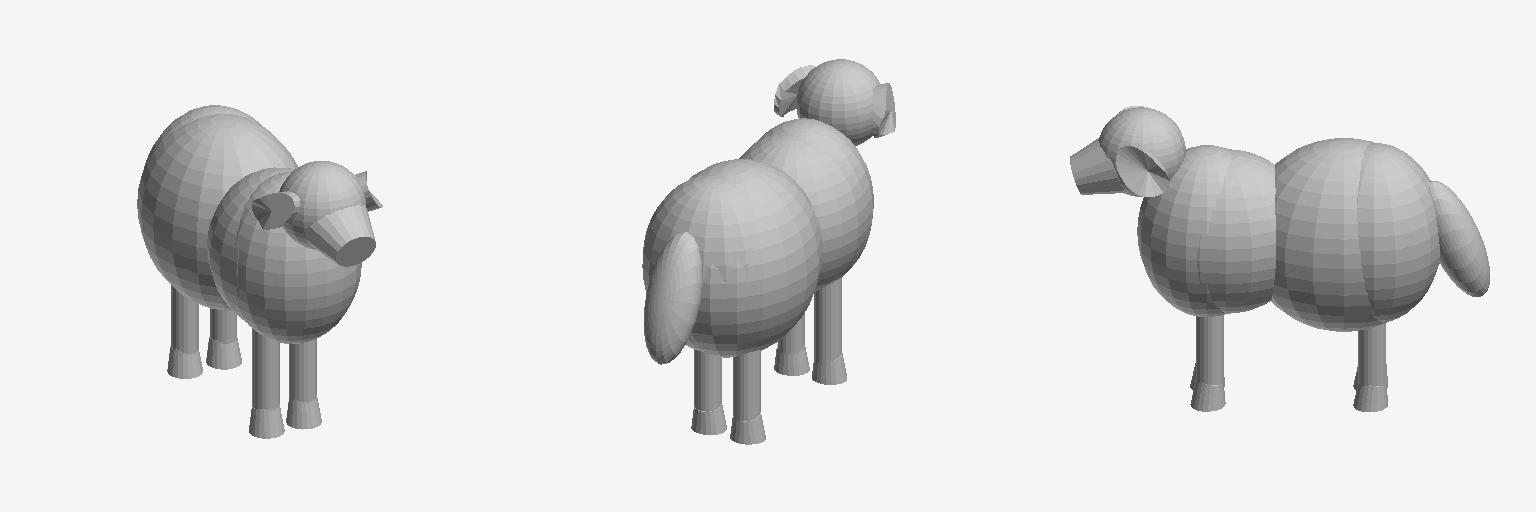
File: Sheep.obj
3 renders of one model, left to right at view 1: azimuth 30°, elevation 25°; view 2: azimuth 150°, elevation 25°; view 3: azimuth 270°, elevation 25°, orthographic.
Parts seen in each view (by area): view 1: pSphere4, pSphere6, pSphere5, pSphere1, pCylinder5, pCylinder2, pCylinder1, pCylinder3, pCylinder6, pCylinder11, pSphere7, pCylinder10 (+3 smaller); view 2: pSphere4, pSphere7, pSphere1, pSphere3, pSphere5, pSphere6, pCylinder2, pCylinder3, pCylinder4, pCylinder6, pCylinder7, pCylinder8 (+4 smaller); view 3: pSphere4, pSphere7, pSphere1, pSphere6, pSphere3, pSphere5, pCylinder7, pCylinder5, pCylinder1, pCylinder4, pCylinder10, pCylinder9.
Part boxes in pixels (x1,y1,x2,y2): pSphere4: (137,114,297,310); pSphere6: (235,172,361,343); pSphere5: (279,161,365,249); pSphere1: (207,167,294,322); pCylinder5: (306,205,375,266); pCylinder2: (252,328,279,410); pCylinder1: (289,339,316,402); pCylinder3: (171,285,198,354); pCylinder6: (252,191,300,229); pCylinder11: (249,404,284,438); pSphere7: (144,105,261,167); pCylinder10: (286,395,321,429); pSphere4: (690,159,822,357); pSphere7: (642,175,754,351); pSphere1: (739,135,868,290); pSphere3: (644,232,702,364); pSphere5: (796,59,879,145); pSphere6: (759,118,873,282); pCylinder2: (814,278,841,364); pCylinder3: (733,350,760,421); pCylinder4: (694,349,721,411); pCylinder6: (872,83,895,137); pCylinder7: (774,65,814,116); pCylinder8: (730,412,765,444); pSphere4: (1271,138,1439,331); pSphere7: (1357,143,1439,322); pSphere1: (1197,149,1275,313); pSphere6: (1137,145,1230,316); pSphere3: (1429,181,1489,296); pSphere5: (1098,107,1185,196); pCylinder7: (1116,146,1169,196); pCylinder5: (1070,138,1124,194); pCylinder1: (1196,315,1223,384); pCylinder4: (1358,323,1385,386); pCylinder10: (1190,381,1225,411); pCylinder9: (1353,383,1387,411).
Bounding box in the file's own units: 1.13 × 2.18 × 2.92.